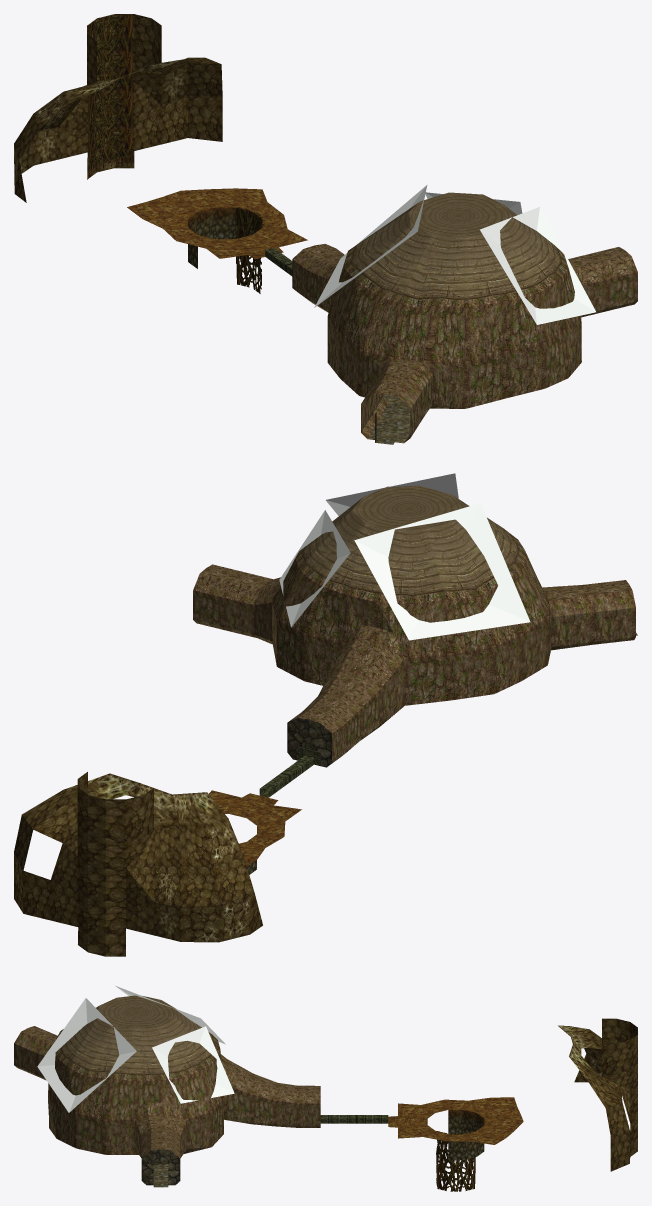
3 renders of one model, top to bottom at view 1: azimuth 30°, elevation 25°; view 2: azimuth 150°, elevation 25°; view 3: azimuth 270°, elevation 25°, orthographic. The views are drawn at different scales.
Parts seen in each view (by area): view 1: inside_the_deku_tree_07.dmx.008, inside_the_deku_tree_07.dmx.004, inside_the_deku_tree_07.dmx.006, inside_the_deku_tree_07.dmx.009, VINES, inside_the_deku_tree_07.dmx.001, inside_the_deku_tree_07.dmx.010, inside_the_deku_tree_07.dmx.002, inside_the_deku_tree_07.dmx.005; view 2: inside_the_deku_tree_07.dmx.008, inside_the_deku_tree_07.dmx.006, inside_the_deku_tree_07.dmx.004, inside_the_deku_tree_07.dmx.001, inside_the_deku_tree_07.dmx.010, inside_the_deku_tree_07.dmx.002, inside_the_deku_tree_07.dmx.009, inside_the_deku_tree_07.dmx; view 3: inside_the_deku_tree_07.dmx.008, inside_the_deku_tree_07.dmx.004, inside_the_deku_tree_07.dmx.009, inside_the_deku_tree_07.dmx.006, inside_the_deku_tree_07.dmx.001, inside_the_deku_tree_07.dmx.010, VINES, inside_the_deku_tree_07.dmx.002, inside_the_deku_tree_07.dmx, inside_the_deku_tree_07.dmx.005.
Part boxes in pixels (x1,y1,x2,y2): inside_the_deku_tree_07.dmx.008: (292, 255, 637, 442); inside_the_deku_tree_07.dmx.004: (343, 192, 568, 307); inside_the_deku_tree_07.dmx.006: (14, 14, 222, 202); inside_the_deku_tree_07.dmx.009: (127, 188, 307, 276); VINES: (88, 15, 265, 293); inside_the_deku_tree_07.dmx.001: (314, 185, 595, 324); inside_the_deku_tree_07.dmx.010: (292, 244, 637, 396); inside_the_deku_tree_07.dmx.002: (14, 57, 201, 193); inside_the_deku_tree_07.dmx.005: (368, 394, 410, 444); inside_the_deku_tree_07.dmx.008: (193, 551, 635, 764); inside_the_deku_tree_07.dmx.006: (14, 772, 262, 956); inside_the_deku_tree_07.dmx.004: (295, 485, 526, 603); inside_the_deku_tree_07.dmx.001: (279, 473, 530, 640); inside_the_deku_tree_07.dmx.010: (193, 564, 632, 733); inside_the_deku_tree_07.dmx.002: (63, 773, 254, 942); inside_the_deku_tree_07.dmx.009: (209, 741, 320, 874); inside_the_deku_tree_07.dmx: (287, 718, 331, 767); inside_the_deku_tree_07.dmx.008: (14, 1032, 320, 1158); inside_the_deku_tree_07.dmx.004: (54, 995, 220, 1081); inside_the_deku_tree_07.dmx.009: (320, 1097, 523, 1160); inside_the_deku_tree_07.dmx.006: (574, 1018, 637, 1171); inside_the_deku_tree_07.dmx.001: (37, 985, 234, 1112); inside_the_deku_tree_07.dmx.010: (21, 1026, 320, 1158); VINES: (436, 1023, 637, 1191); inside_the_deku_tree_07.dmx.002: (558, 1025, 601, 1080); inside_the_deku_tree_07.dmx: (141, 1149, 180, 1185); inside_the_deku_tree_07.dmx.005: (153, 1165, 168, 1187).
Size of the model in its own units: 28.1 by 18.88 by 57.27.
